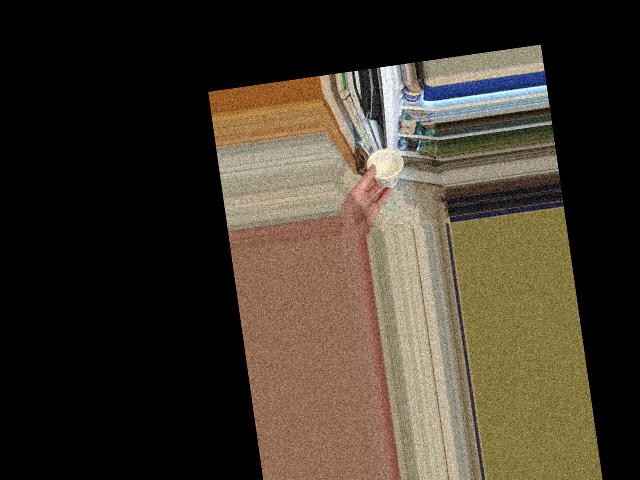cotage: (369, 142, 401, 191)
